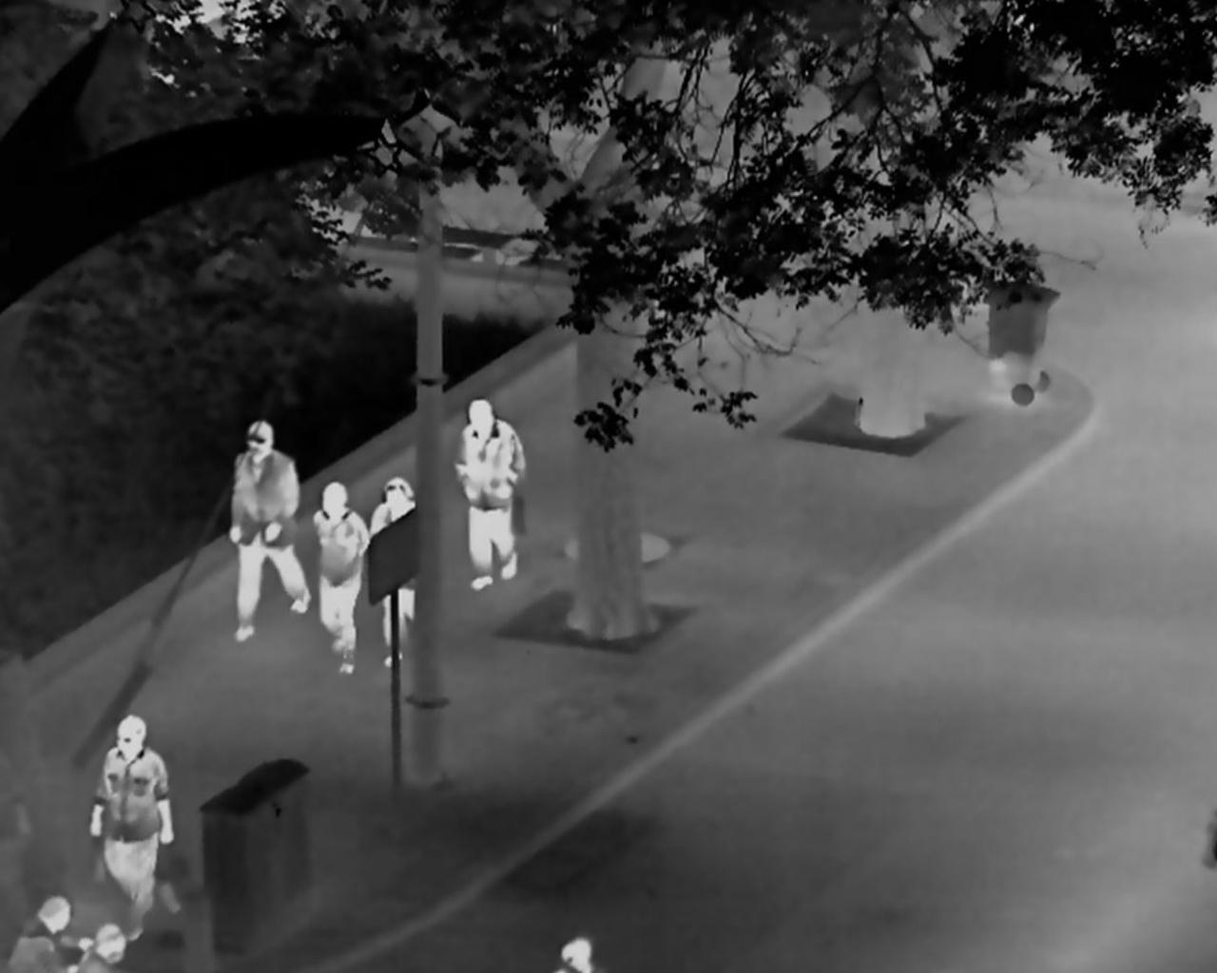person: (88, 713, 183, 941), (228, 421, 312, 640), (454, 397, 529, 593), (312, 479, 369, 676), (368, 477, 416, 669), (7, 893, 96, 973), (69, 921, 128, 973), (552, 935, 601, 973)
